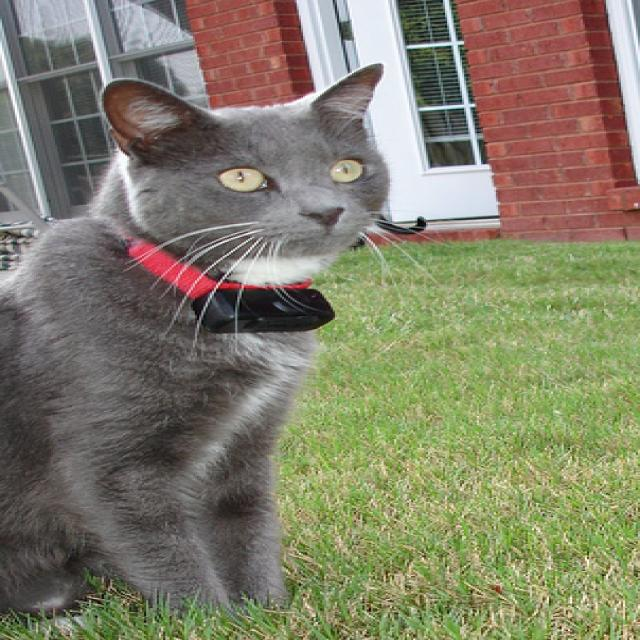left eye: (326, 156, 367, 183)
